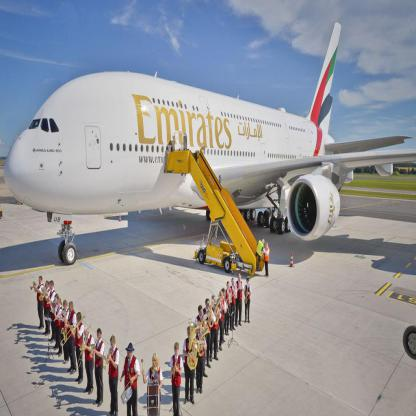CIV_Plane: (2, 16, 411, 266)
